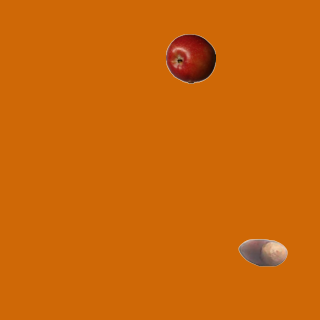Apple Braeburn: (165, 33, 215, 83)
Hazelnut: (237, 227, 287, 277)
